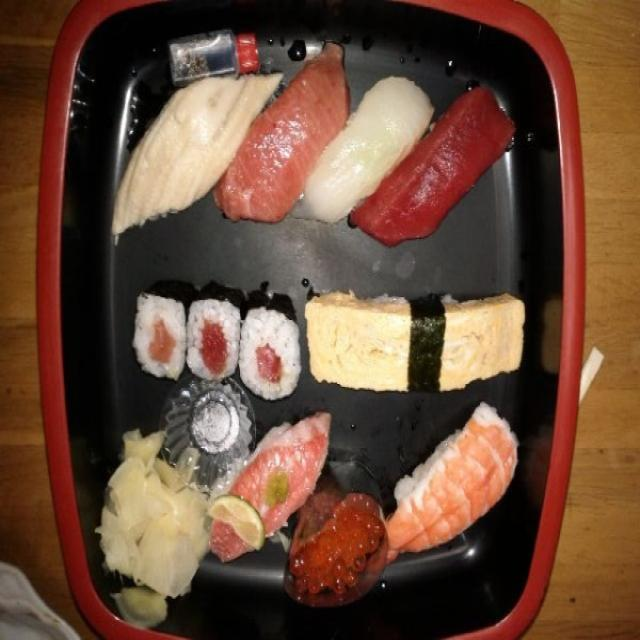Sushi: (104, 76, 516, 586)
